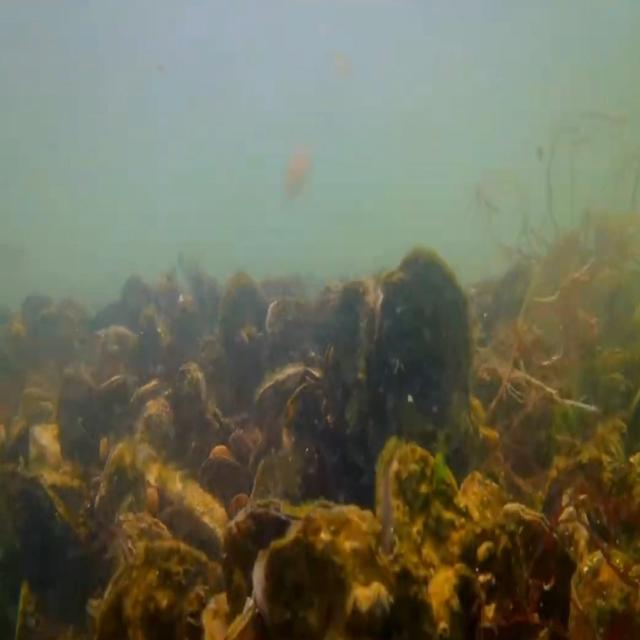Oyster-Closed: (0, 469, 84, 640), (476, 503, 577, 640), (222, 497, 304, 640), (96, 434, 150, 570)
Oyster-Indeterminate: (380, 247, 473, 470), (252, 501, 386, 640), (325, 275, 384, 449), (55, 366, 110, 482), (168, 359, 208, 467), (459, 468, 514, 546), (248, 446, 303, 520), (173, 480, 228, 551), (115, 510, 170, 572), (0, 420, 30, 473)
Oyster-Open: (374, 436, 484, 640), (253, 362, 325, 454), (123, 378, 173, 443), (15, 381, 56, 422)
